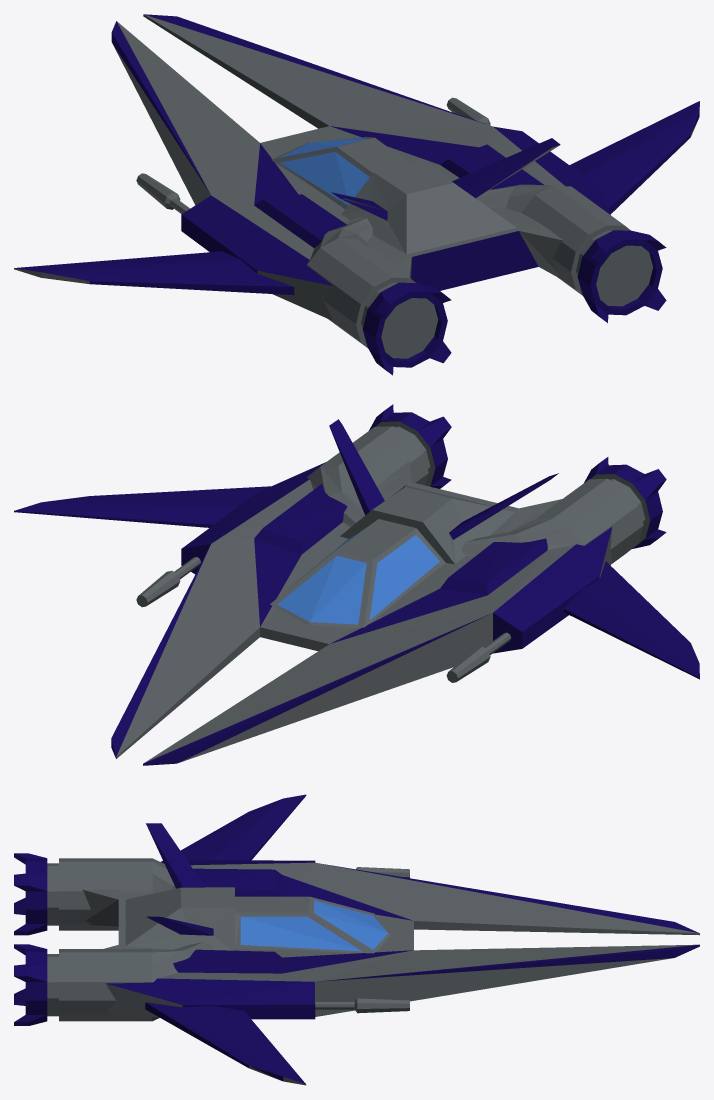
Rendered from blueship.obj.
3 views of the same model, one above another, from view 1: azimuth 30°, elevation 25°; view 2: azimuth 150°, elevation 25°; view 3: azimuth 270°, elevation 25° (orthographic). The views are drawn at different scales.
Visible parts, largest first — view 1: fighter1; view 2: fighter1; view 3: fighter1.
Boxes of the visible parts, x1,y1,x2,y2 form: fighter1: (14, 14, 699, 375); fighter1: (14, 404, 699, 765); fighter1: (14, 794, 699, 1085).
Bounding box in the file's own units: 6.51 × 1.08 × 6.51.
